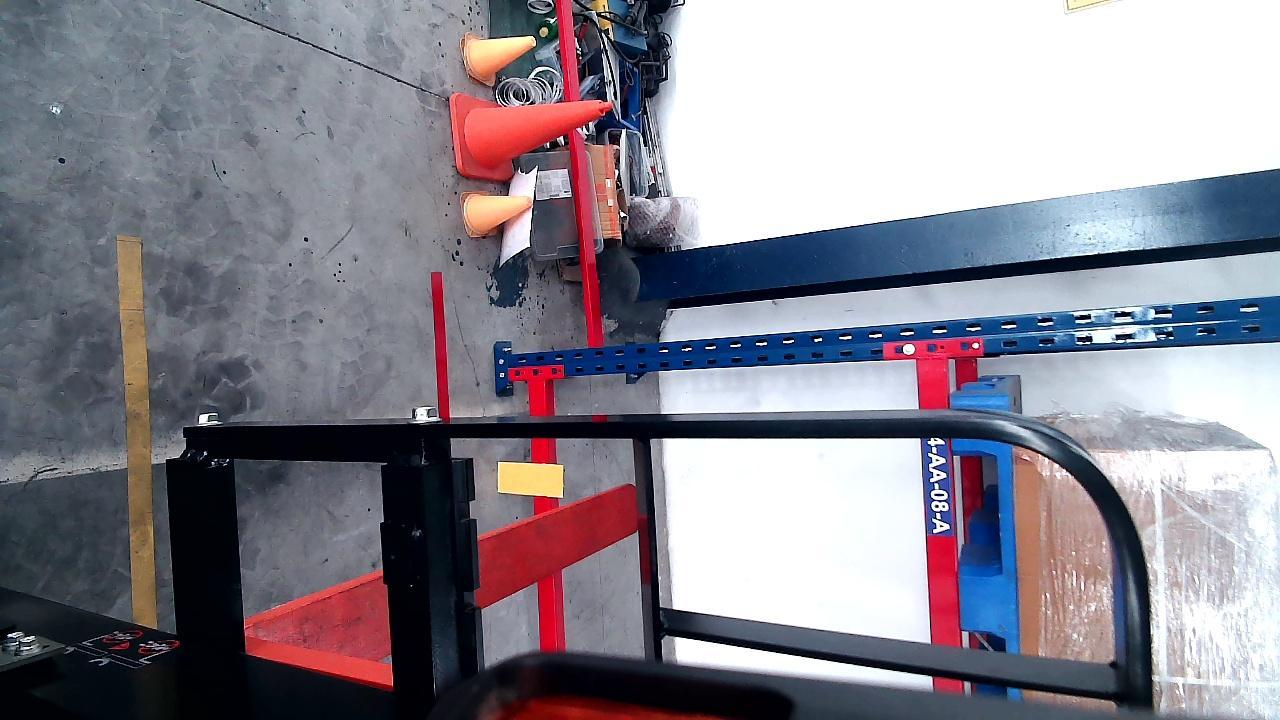red_line: (430, 271, 449, 419)
yellow_line: (123, 232, 155, 624)
